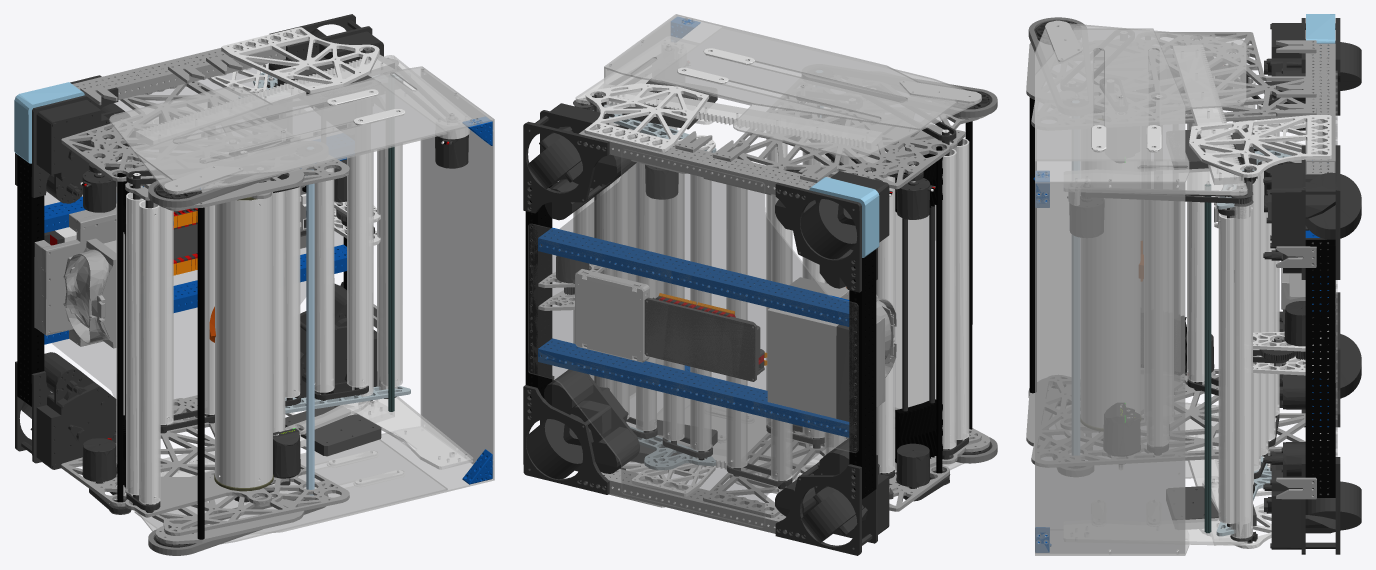
The picture shows the model from 3 angles, left to right: view 1: azimuth 30°, elevation 25°; view 2: azimuth 150°, elevation 25°; view 3: azimuth 270°, elevation 25°; orthographic projection. The views are drawn at different scales.
Parts seen in each view (by area): view 1: main_mesh, c4_mesh, c0_mesh, c1_mesh, c2_mesh, c5_mesh, c3_mesh; view 2: main_mesh, c1_mesh, c4_mesh, c2_mesh, c5_mesh, c3_mesh; view 3: main_mesh, c4_mesh, c2_mesh, c0_mesh, c5_mesh, c1_mesh.
Part boxes in pixels (x1,y1,x2,y2): main_mesh: (14,14,447,555); c4_mesh: (134,66,494,533); c0_mesh: (209,151,273,491); c1_mesh: (123,159,271,517); c2_mesh: (136,54,473,476); c5_mesh: (153,169,304,547); c3_mesh: (285,151,373,434); main_mesh: (523,27,997,555); c1_mesh: (845,110,969,474); c4_mesh: (604,14,957,466); c2_mesh: (573,36,881,480); c5_mesh: (952,91,992,454); c3_mesh: (600,105,712,451); main_mesh: (1028,14,1361,554); c4_mesh: (1033,28,1189,555); c2_mesh: (1064,45,1253,545); c0_mesh: (1080,102,1143,431); c5_mesh: (1026,20,1078,448); c1_mesh: (1060,49,1186,430).
Size of the model in its own units: 0.7011 by 0.7033 by 0.5674.
